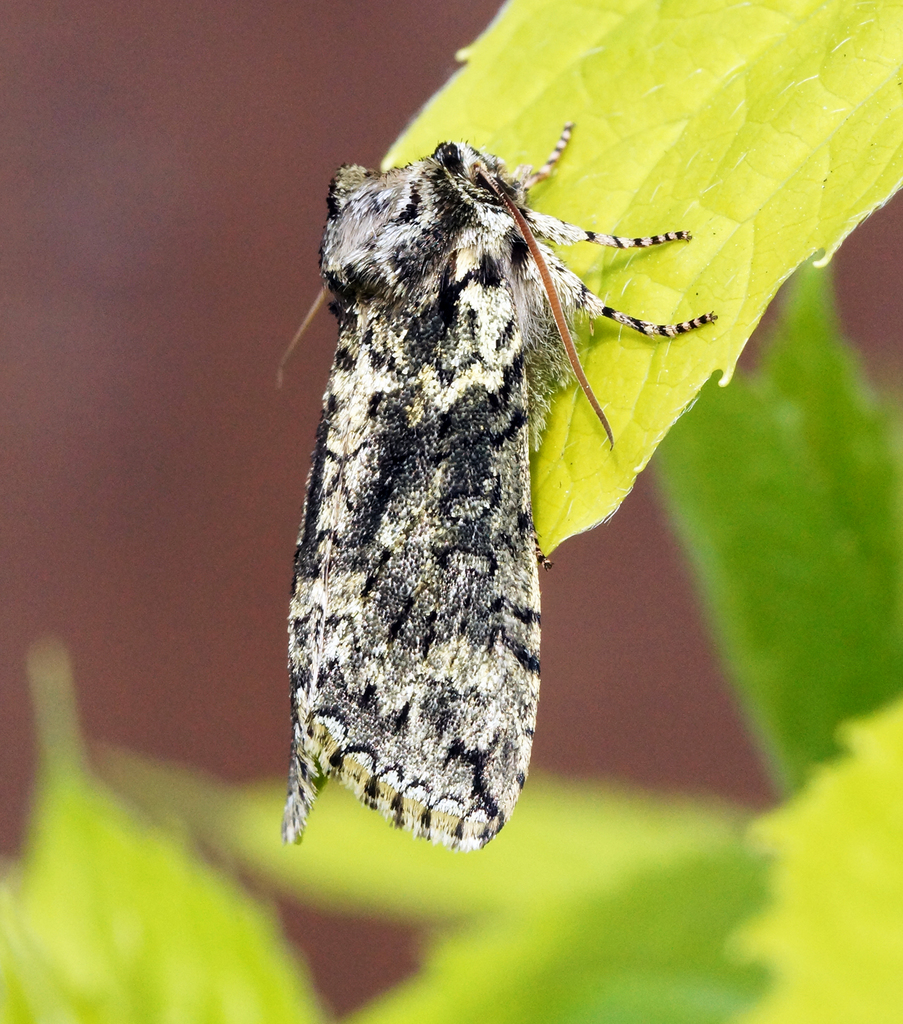Butterfly: (282, 147, 659, 863)
